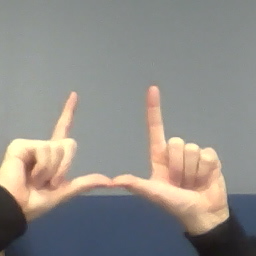U: (1, 84, 229, 214)
